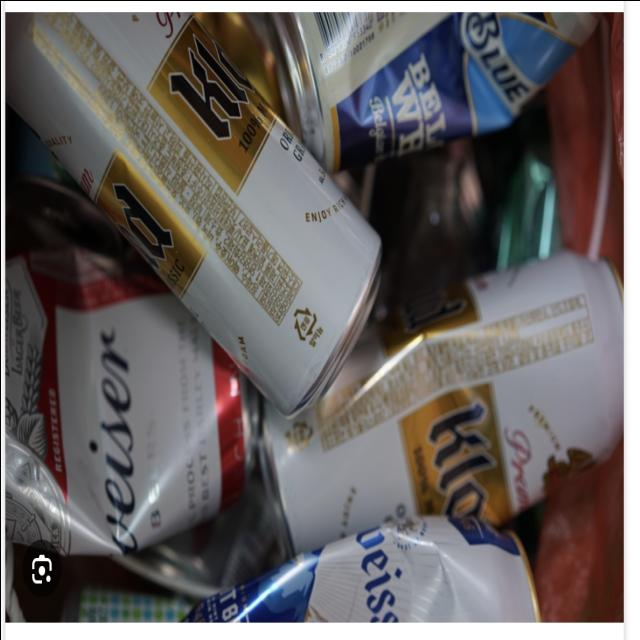can: (11, 17, 396, 422), (211, 227, 633, 553), (273, 15, 614, 169)
